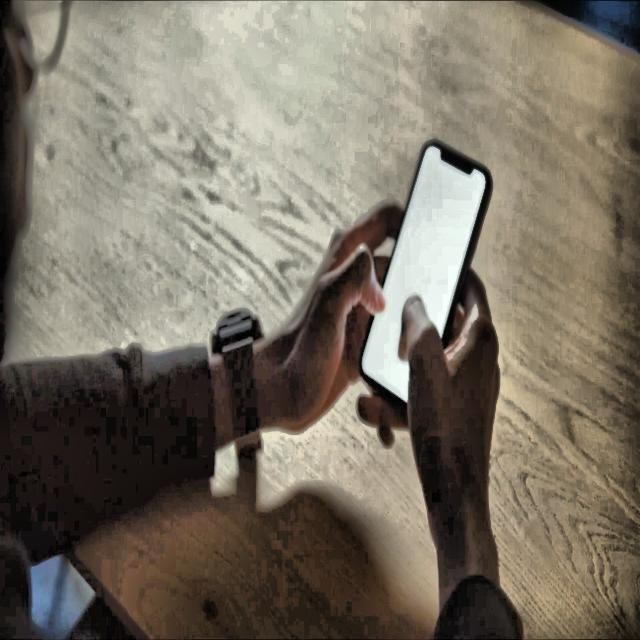Phone: (358, 138, 496, 418)
